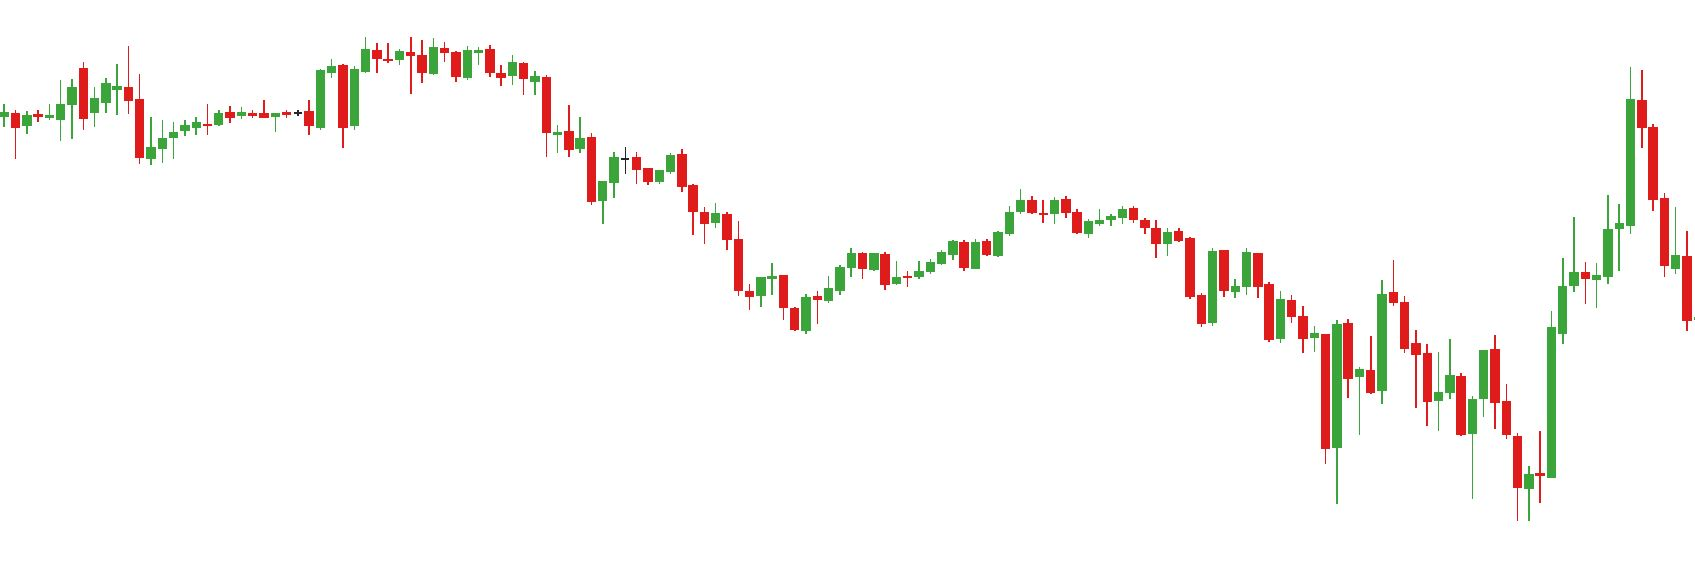buy: (1319, 354, 1532, 525)
